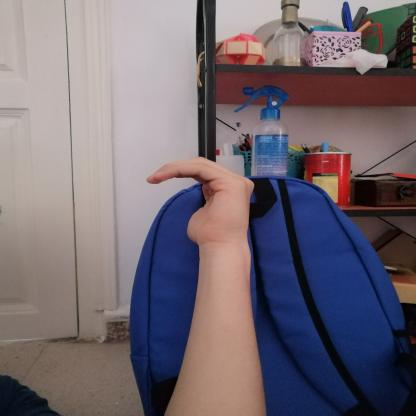HAA: (136, 148, 264, 253)
